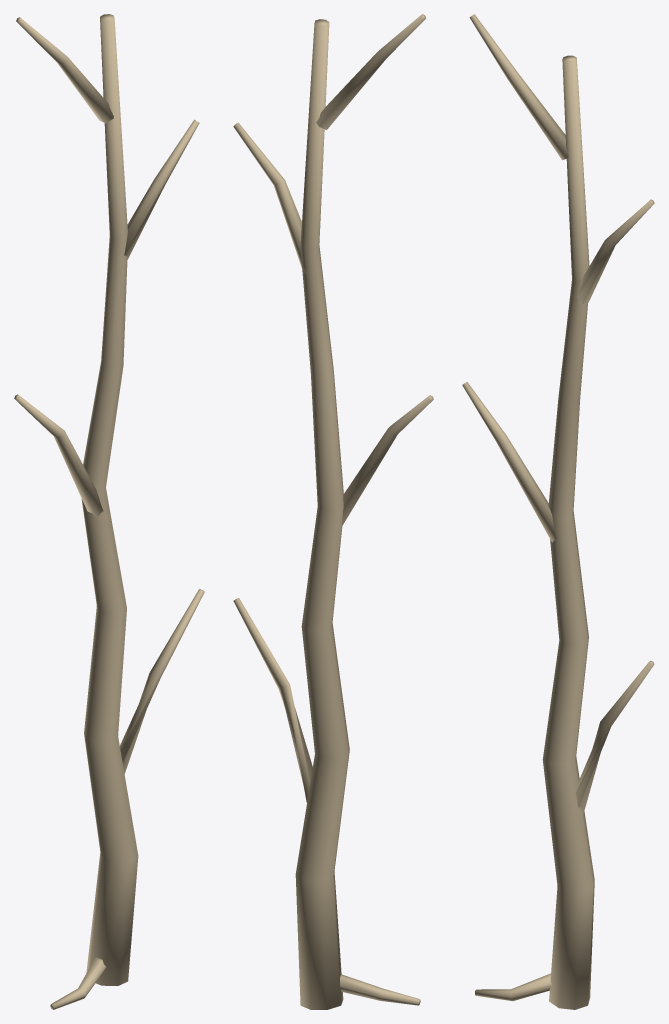
File: trunk_a.glb
3 renders of one model, left to right at view 1: azimuth 30°, elevation 25°; view 2: azimuth 150°, elevation 25°; view 3: azimuth 330°, elevation 25°, orthographic. The views are drawn at different scales.
Parts seen in each view (by area): view 1: WB002V2_OrganicTrunk.005; view 2: WB002V2_OrganicTrunk.005; view 3: WB002V2_OrganicTrunk.005.
Part boxes in pixels (x1,y1,x2,y2): WB002V2_OrganicTrunk.005: (14,14,204,1009); WB002V2_OrganicTrunk.005: (233,14,433,1009); WB002V2_OrganicTrunk.005: (462,14,654,1009).
Size of the model in its own units: 8.17 by 40.14 by 2.42.
